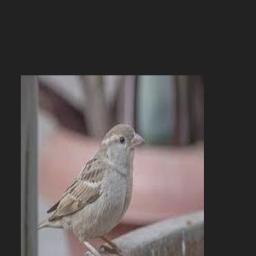Sparrow: (37, 123, 146, 256)
